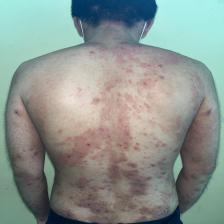DA: (82, 47, 170, 152), (69, 157, 156, 198)
